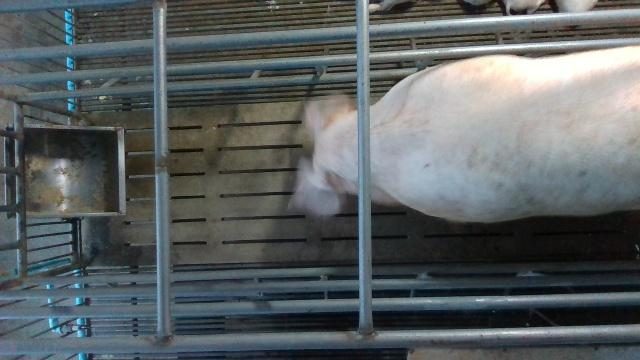sow-stand: (289, 40, 640, 223)
